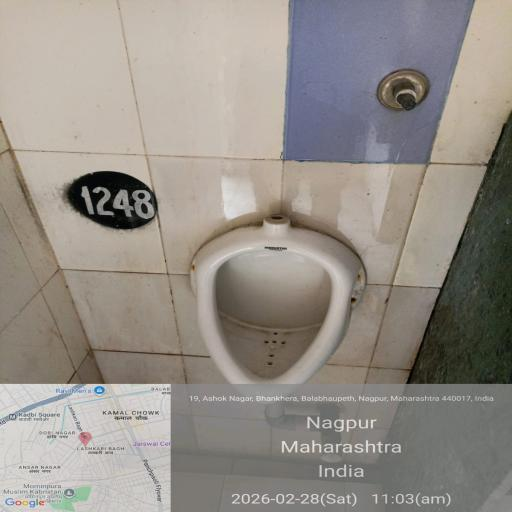clean_urinal: (158, 234, 385, 432)
partial_dirty_floor: (78, 139, 476, 492)
